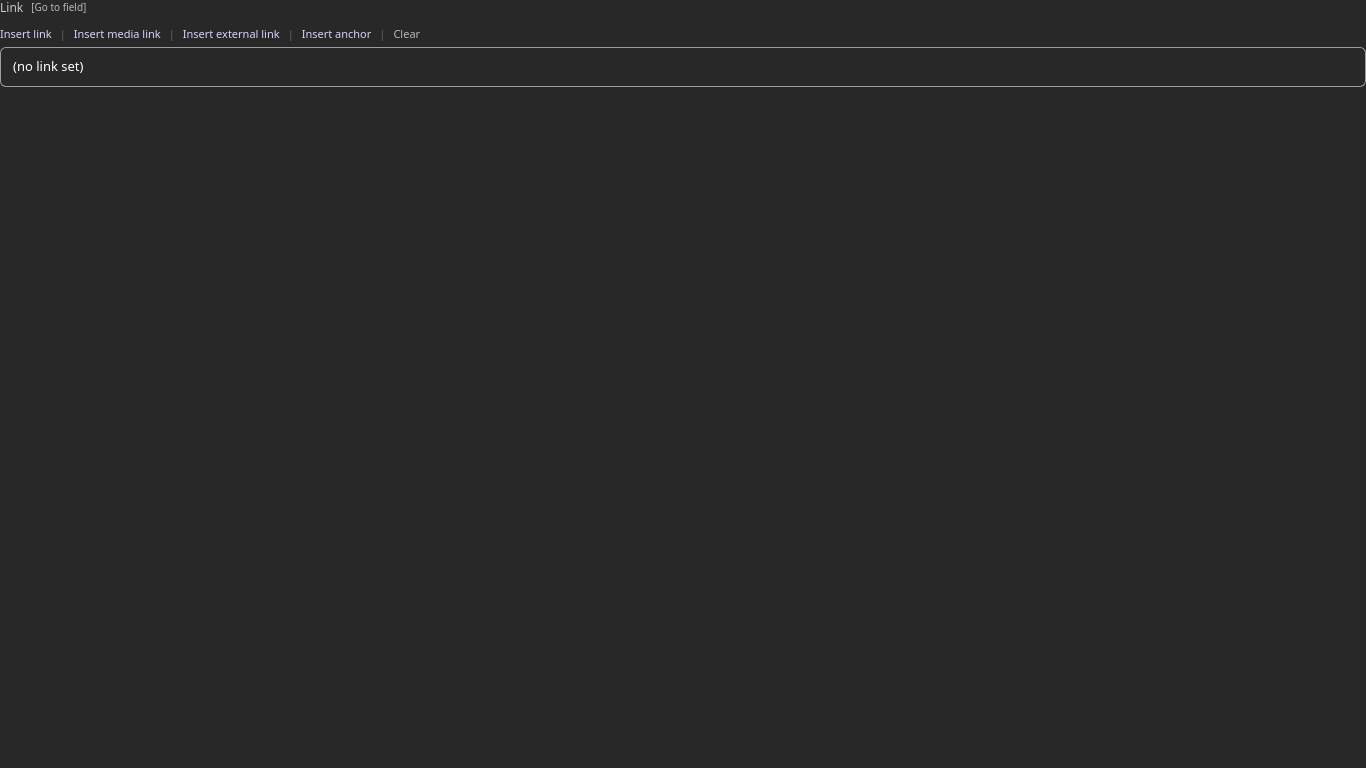
Scenario: GeneralLinkFieldEditor Insert link integration › clicking Insert link opens the InsertLinkDialog
This screenshot has width=1366, height=768.
Click the button "Insert link" at (26, 34), box [0,26,52,42]
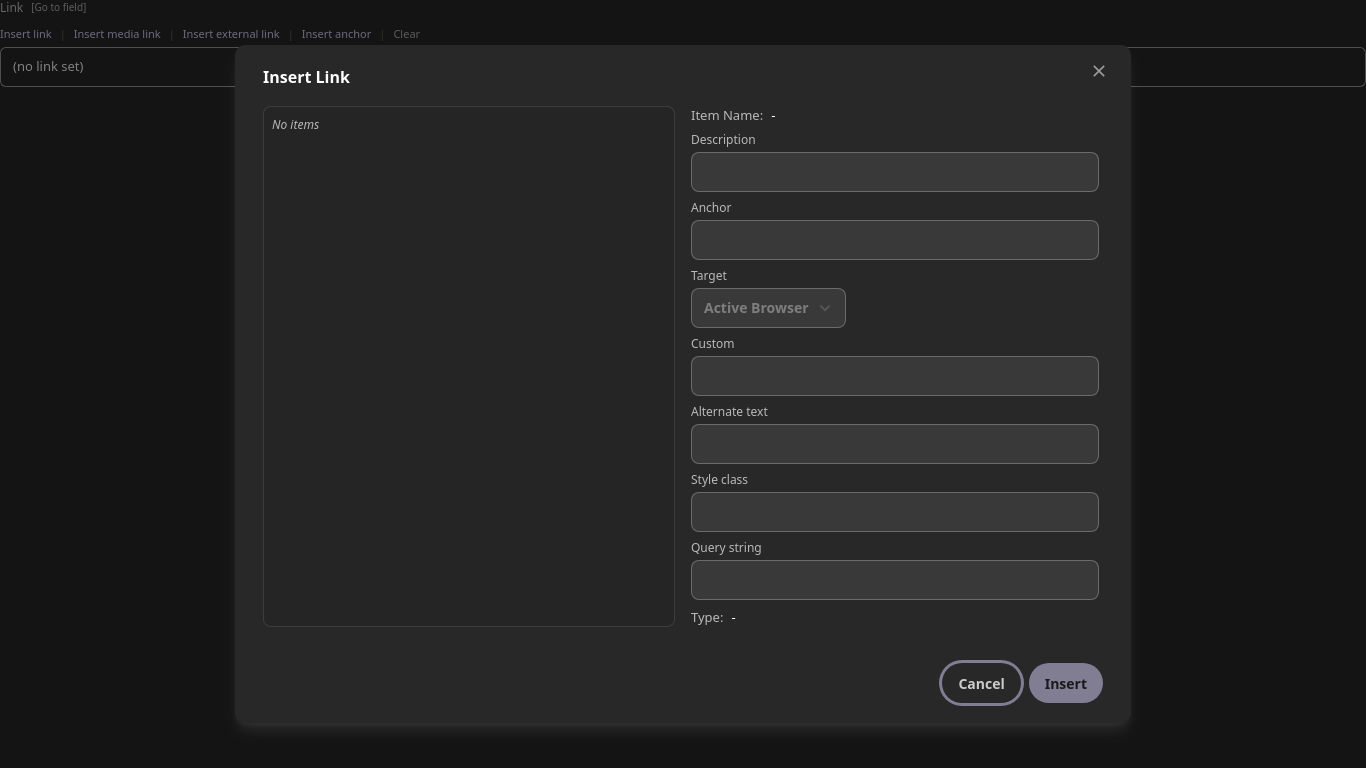
Now the dialog is shown, box [235,45,1131,723]
Now the heading "Insert Link" is shown, box [263,66,350,88]
